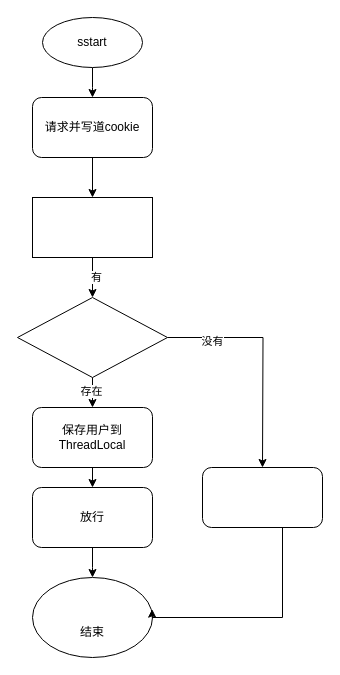
The diagram is 340 pixels wide and 675 high, and some of its shapes have lost their labels. Here are the shapes that lost their labels. From the top down, the centre of each, then its label:
At (92,227): "从session中获取用户".
At (92,337): "用户是否存在".
At (262,497): "拦截器".
